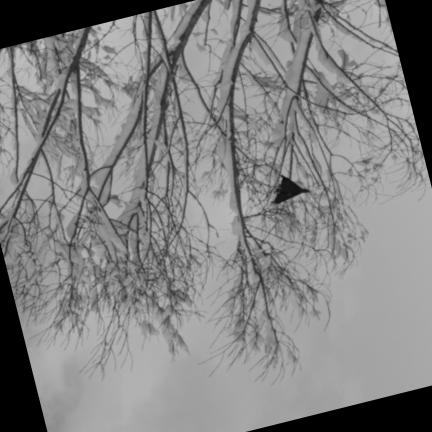Shahed: (271, 174, 308, 202)
